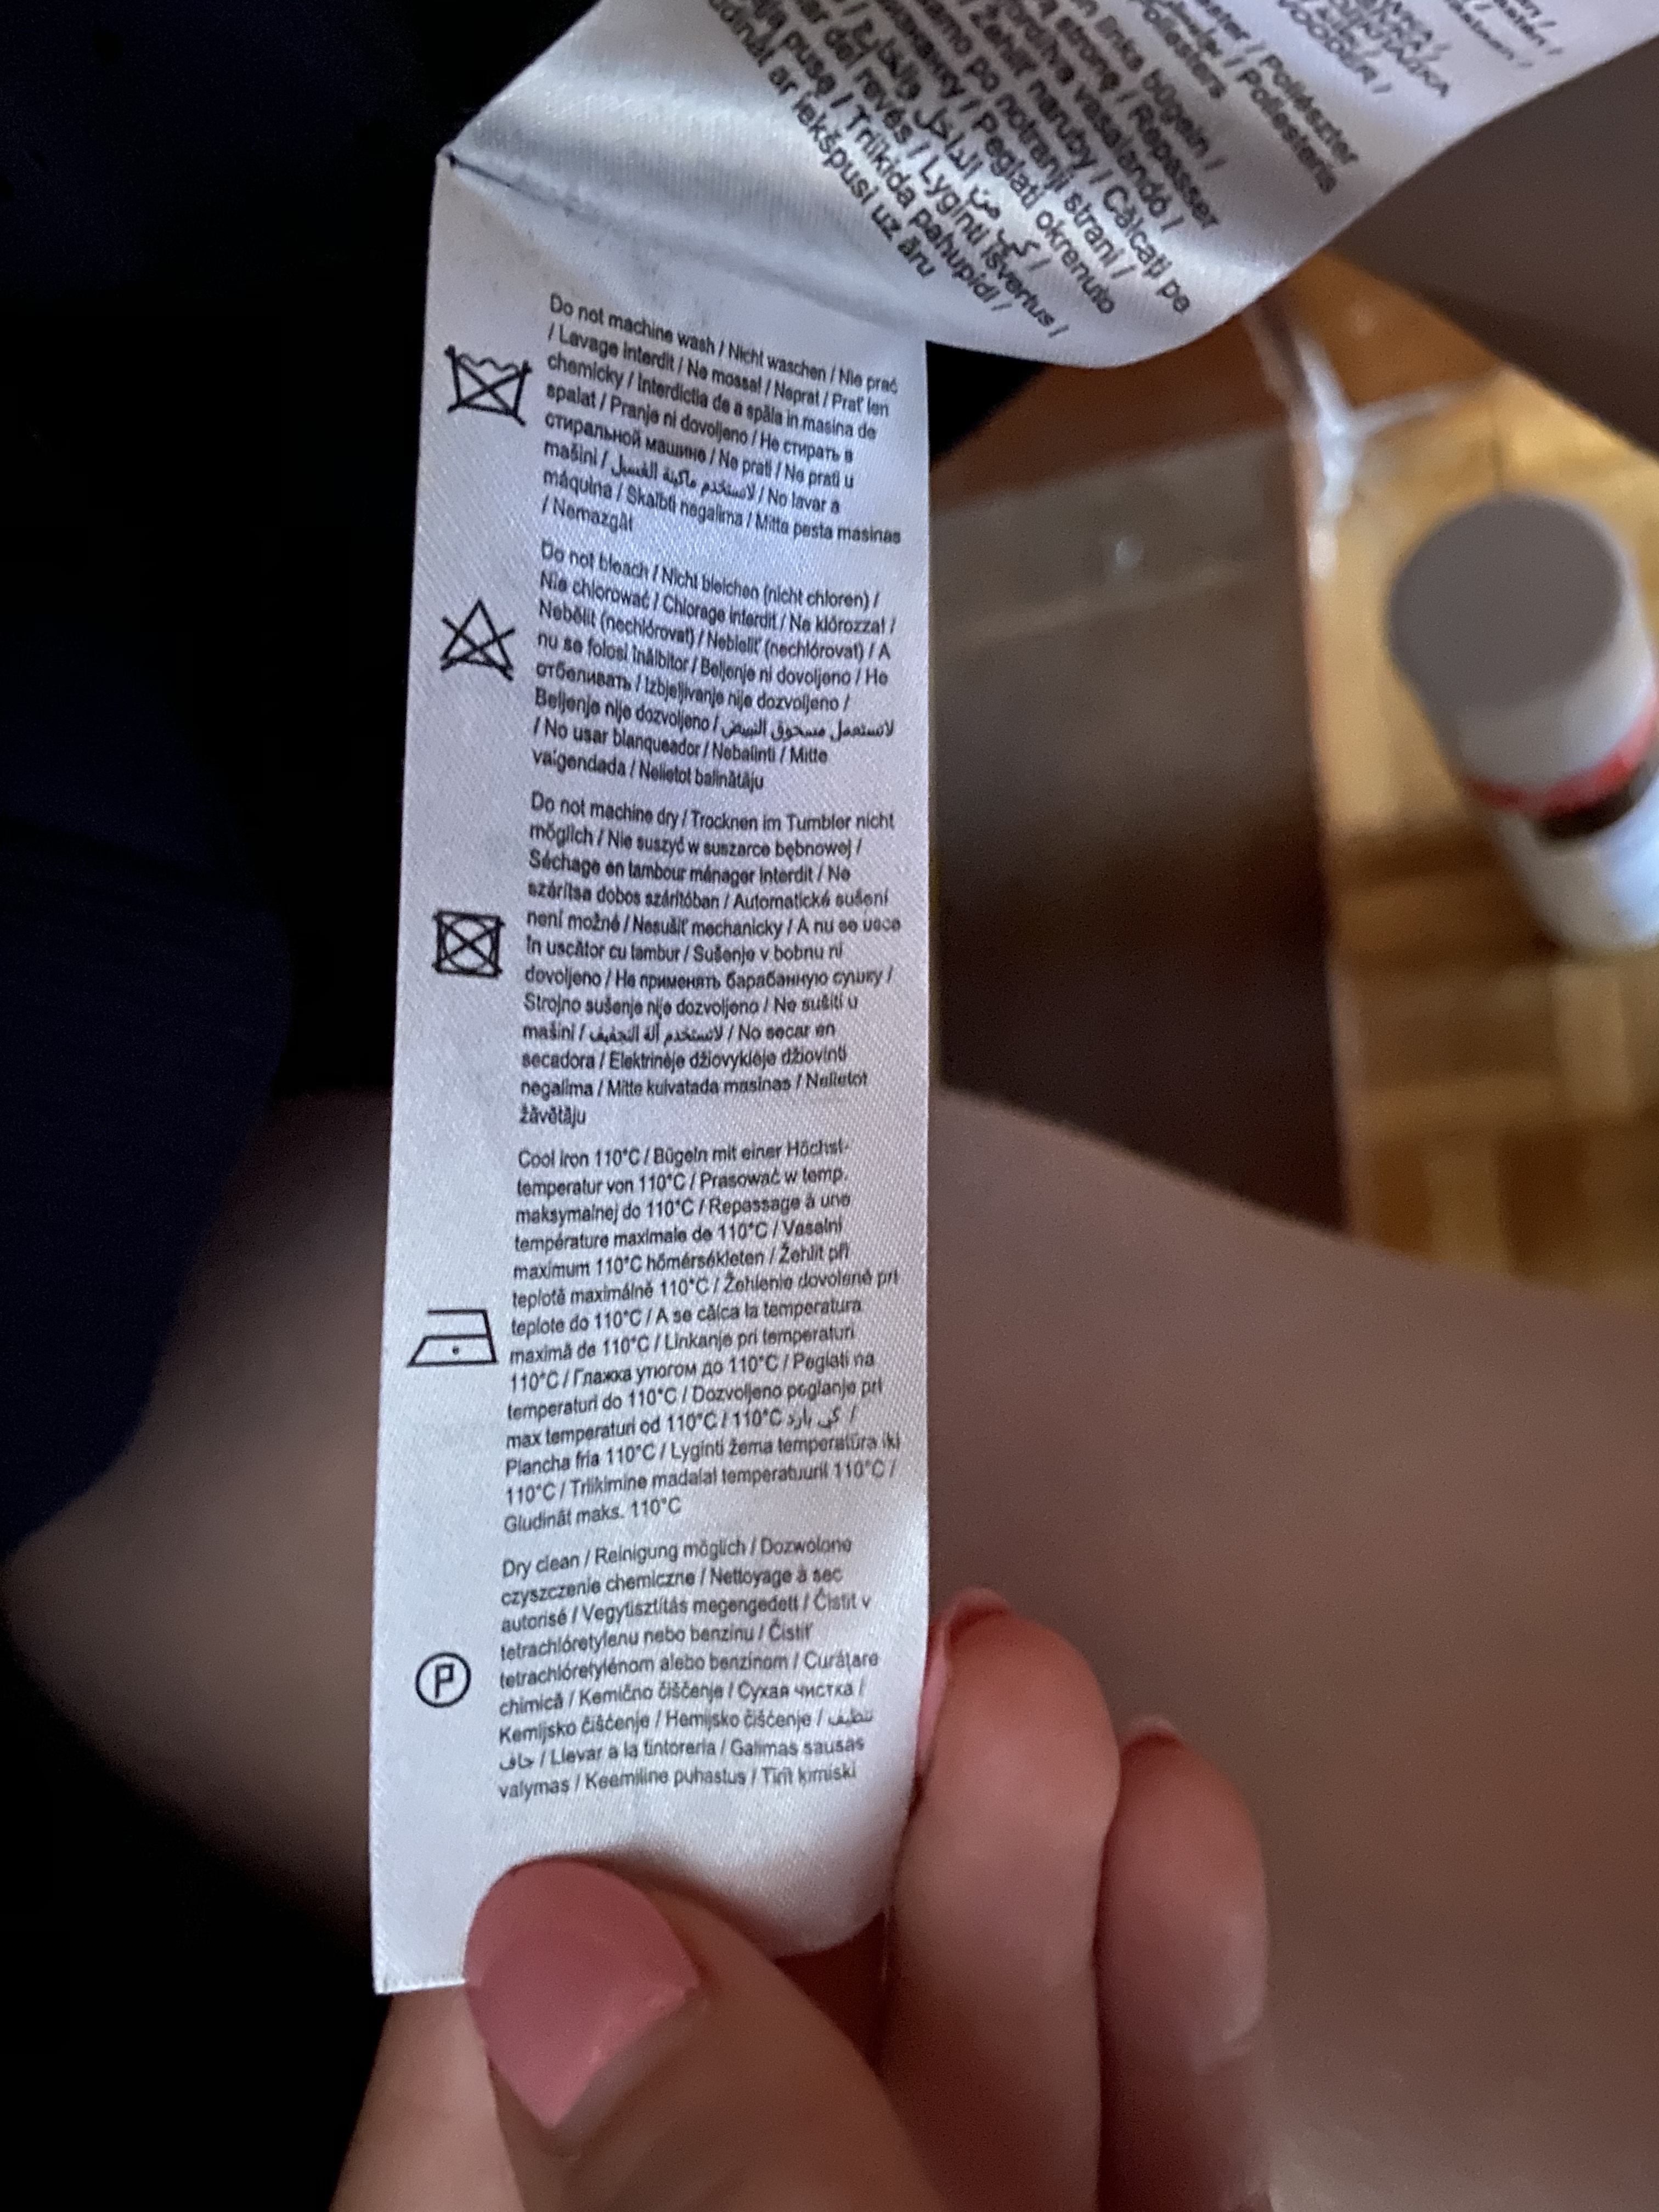do_not_bleach: (427, 587, 528, 690)
do_not_tumble_drying: (416, 894, 519, 986)
do_not_wash: (441, 338, 538, 430)
dry_clean_tetrachloroethylene_pce_only: (410, 1642, 481, 1714)
ironing_at_low_temp: (401, 1296, 507, 1383)
